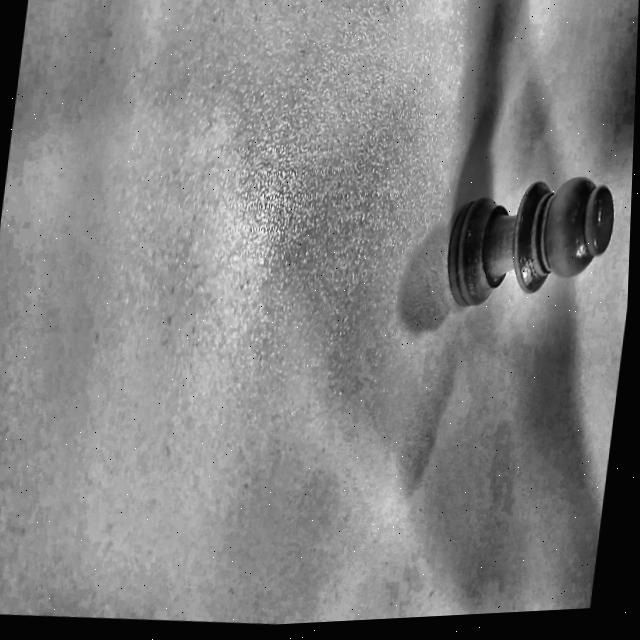black-bishop: (428, 146, 633, 341)
